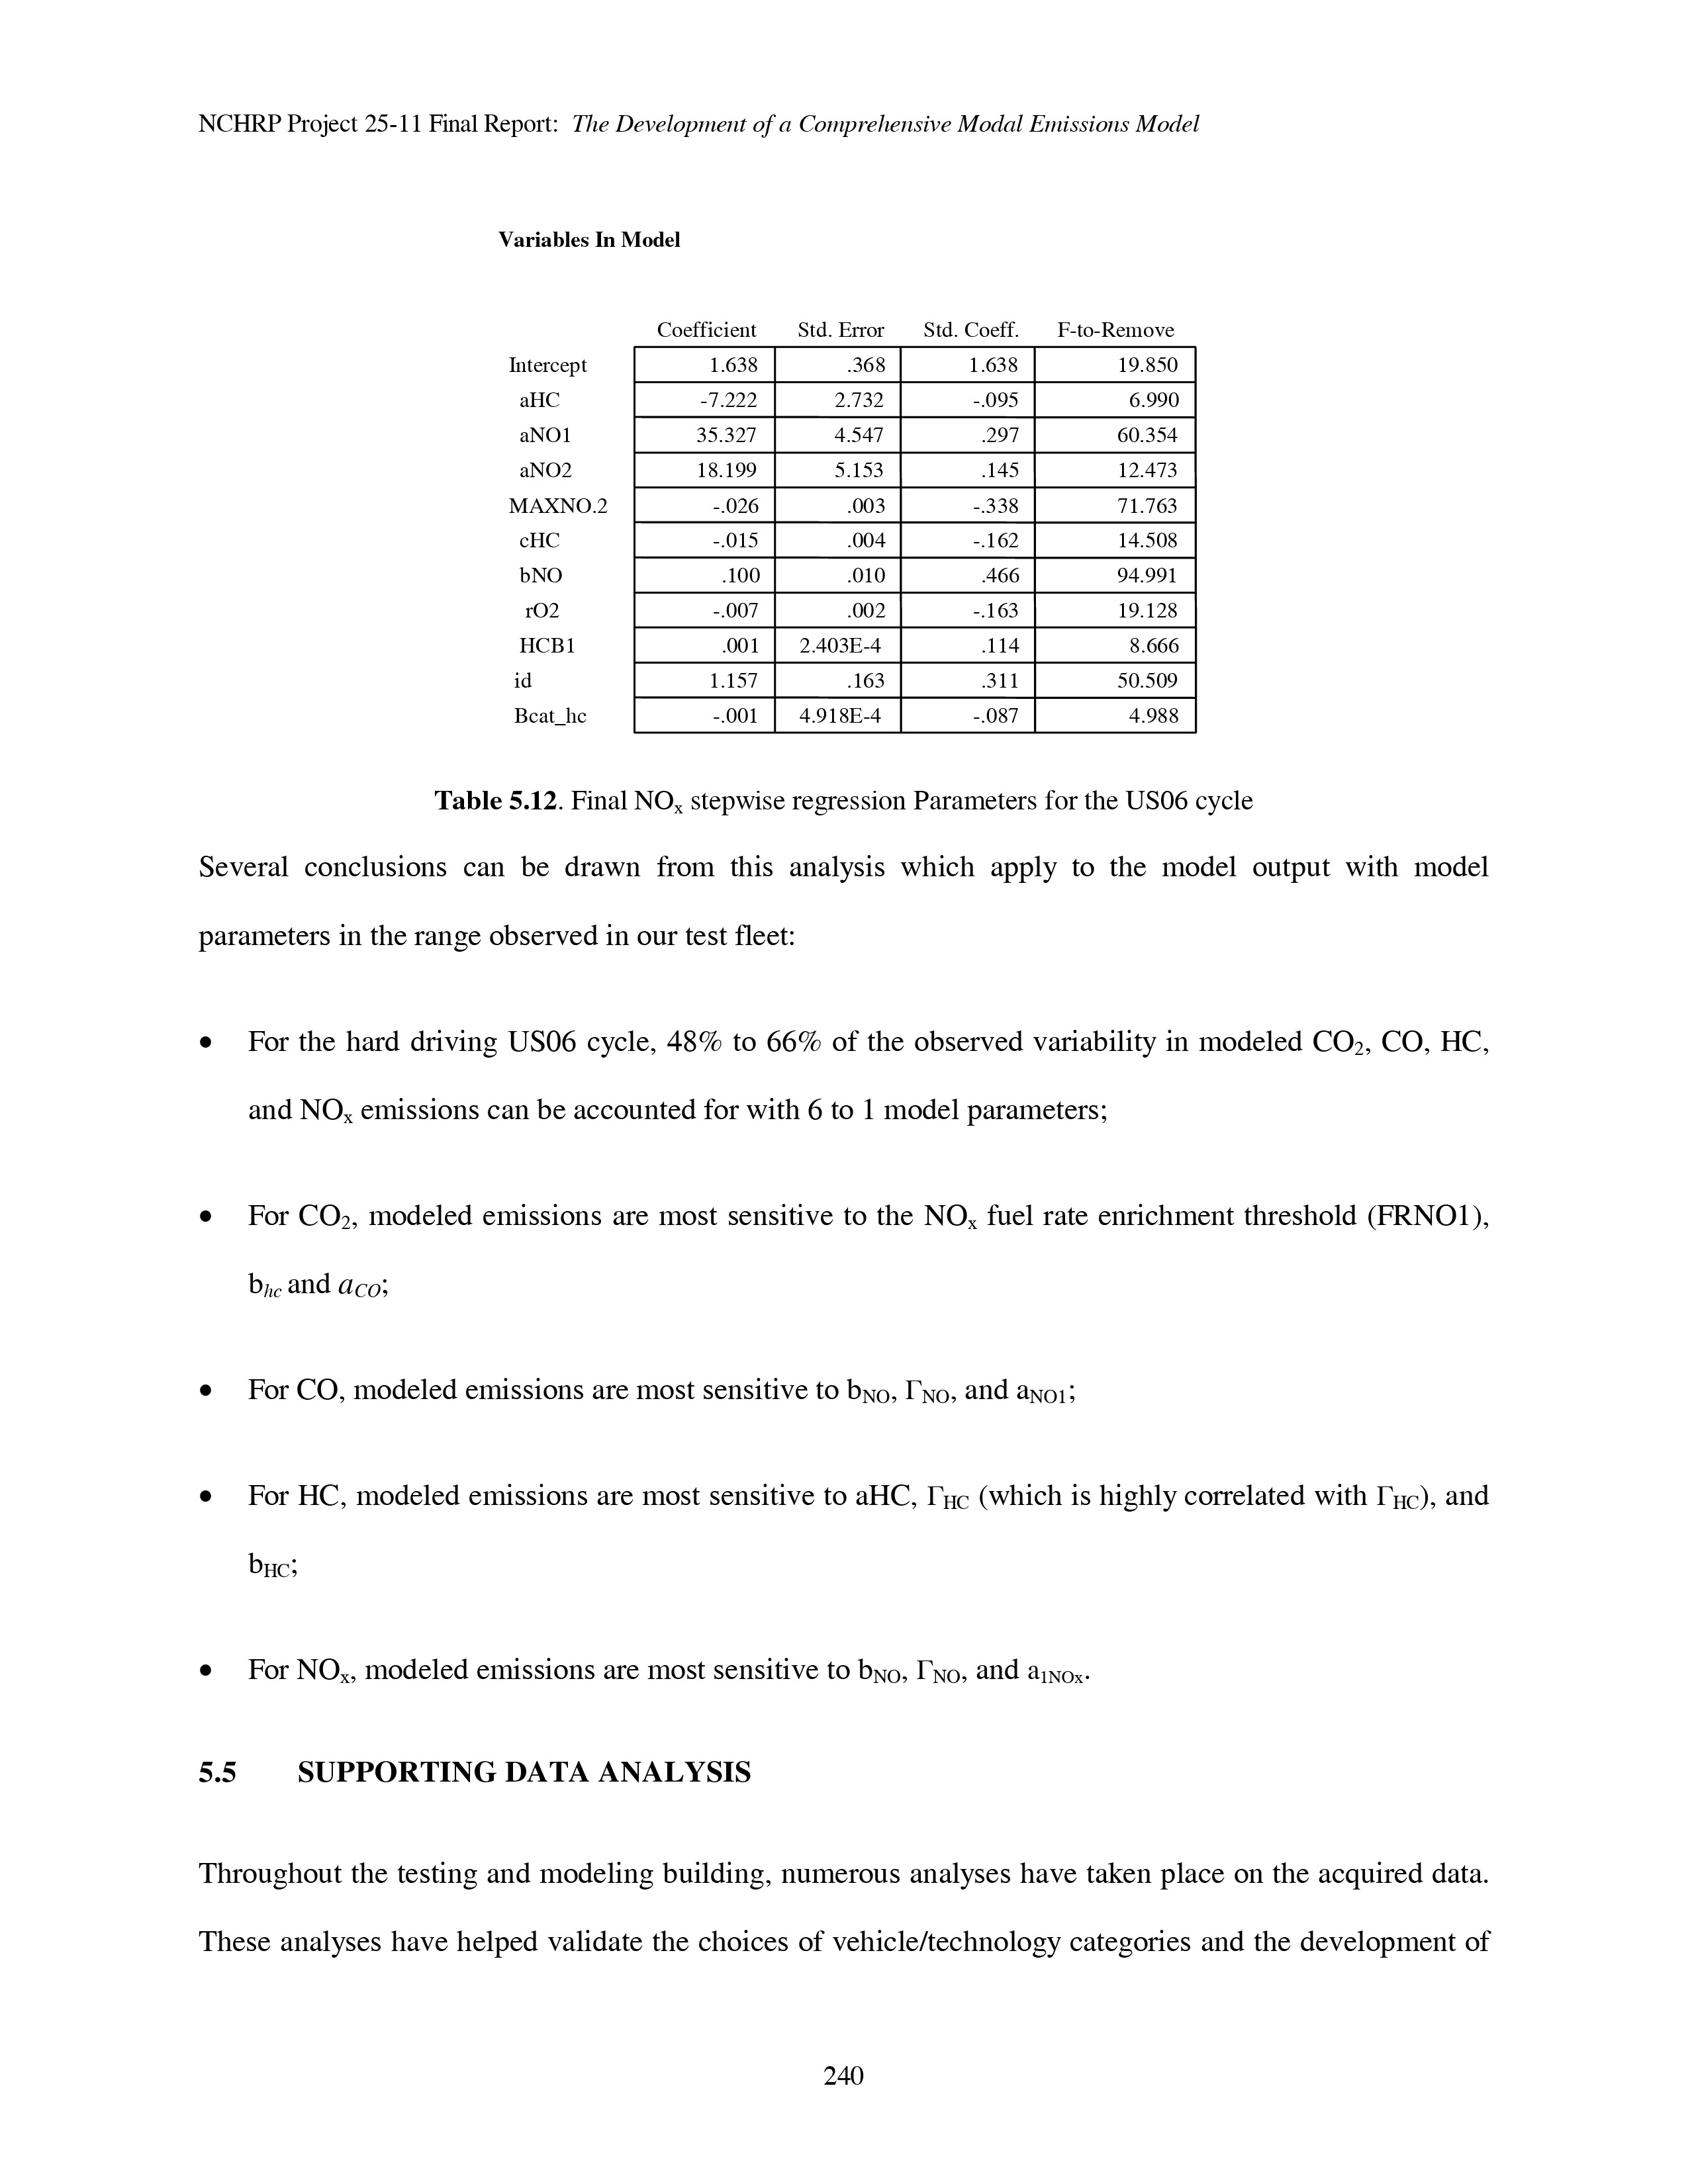caption: (426, 776, 1278, 815)
list: (186, 998, 1511, 1705)
section: (183, 1744, 793, 1805)
table: (516, 291, 1209, 727)
text: (195, 1854, 1497, 1973), (191, 842, 1495, 886), (186, 883, 816, 948), (183, 115, 1216, 149)
